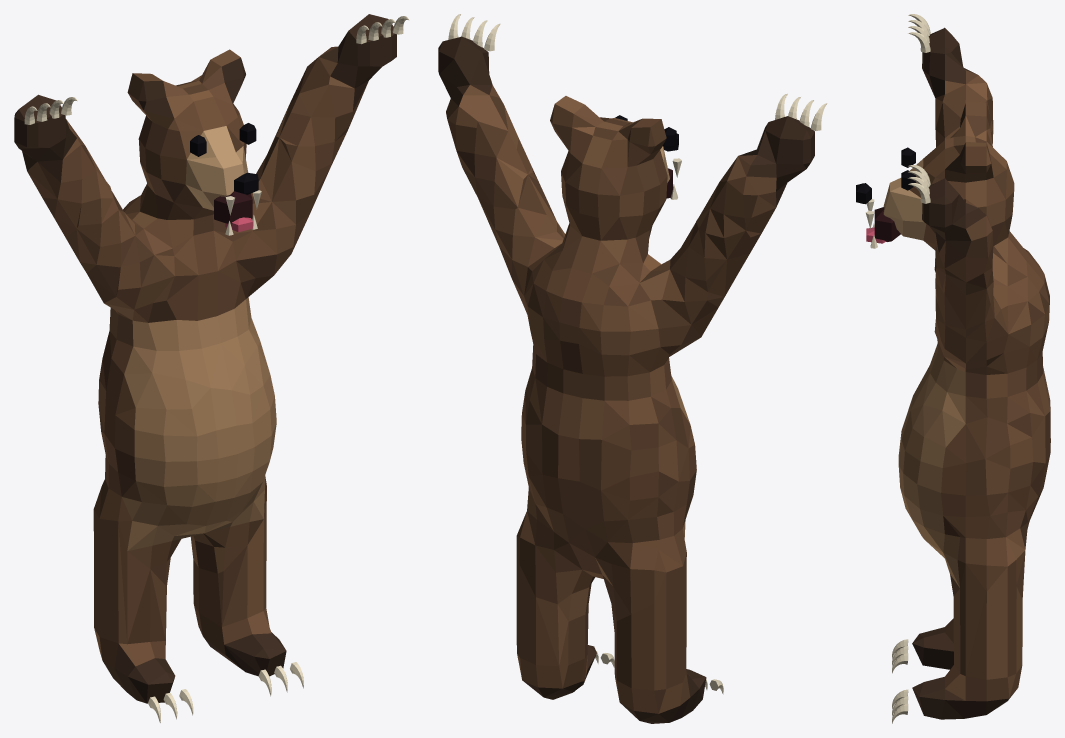
File: oso.glb
3 renders of one model, left to right at view 1: azimuth 30°, elevation 25°; view 2: azimuth 150°, elevation 25°; view 3: azimuth 270°, elevation 25°, orthographic. The views are drawn at different scales.
Parts seen in each view (by area): view 1: oso; view 2: oso; view 3: oso.
Boxes of the visible parts, x1=… form: oso: x1=14, y1=14, x2=408, y2=722; oso: x1=438, y1=14, x2=827, y2=723; oso: x1=856, y1=14, x2=1050, y2=723.
Bounding box in the file's own units: 1.37 × 2.2 × 0.6544.
